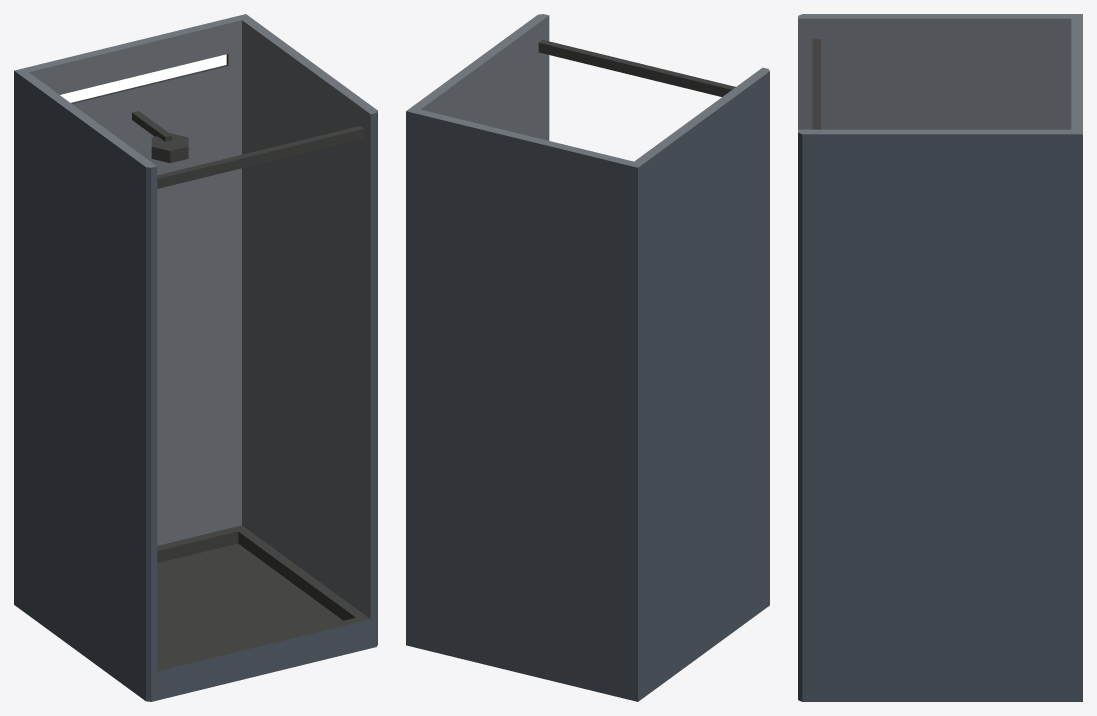
The model's file is shower_stall.glb.
3 views of the same model, side by side, from view 1: azimuth 30°, elevation 25°; view 2: azimuth 150°, elevation 25°; view 3: azimuth 270°, elevation 25° (orthographic). The views are drawn at different scales.
Parts seen in each view (by area): view 1: shower_stall; view 2: shower_stall; view 3: shower_stall.
Boxes of the visible parts, x1=… form: shower_stall: x1=14, y1=14, x2=377, y2=701; shower_stall: x1=406, y1=14, x2=769, y2=701; shower_stall: x1=798, y1=14, x2=1082, y2=701.
Bounding box in the file's own units: 1 × 2.2 × 1.
